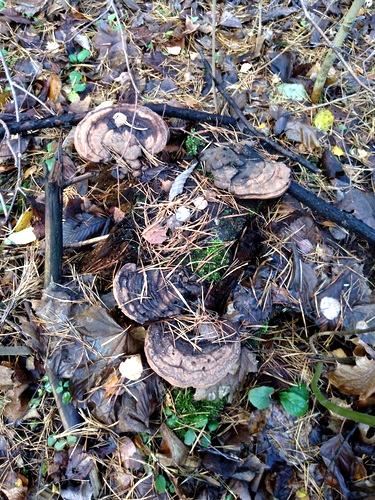Ganoderma - Fruit Body: (140, 325, 235, 394), (77, 98, 168, 167), (202, 141, 291, 200), (114, 261, 198, 312)
